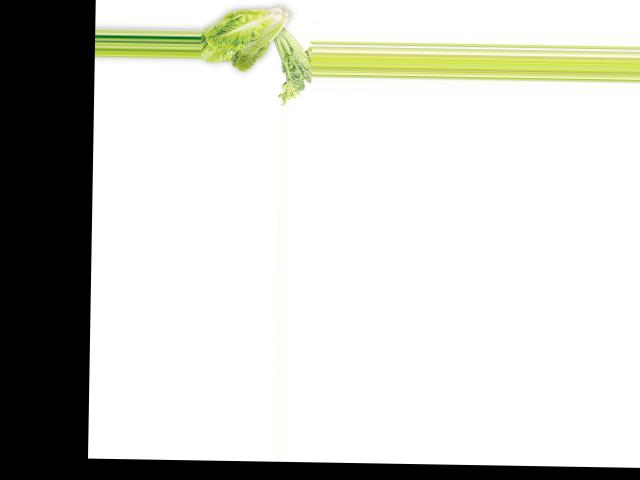lettuce: (199, 7, 295, 79)
